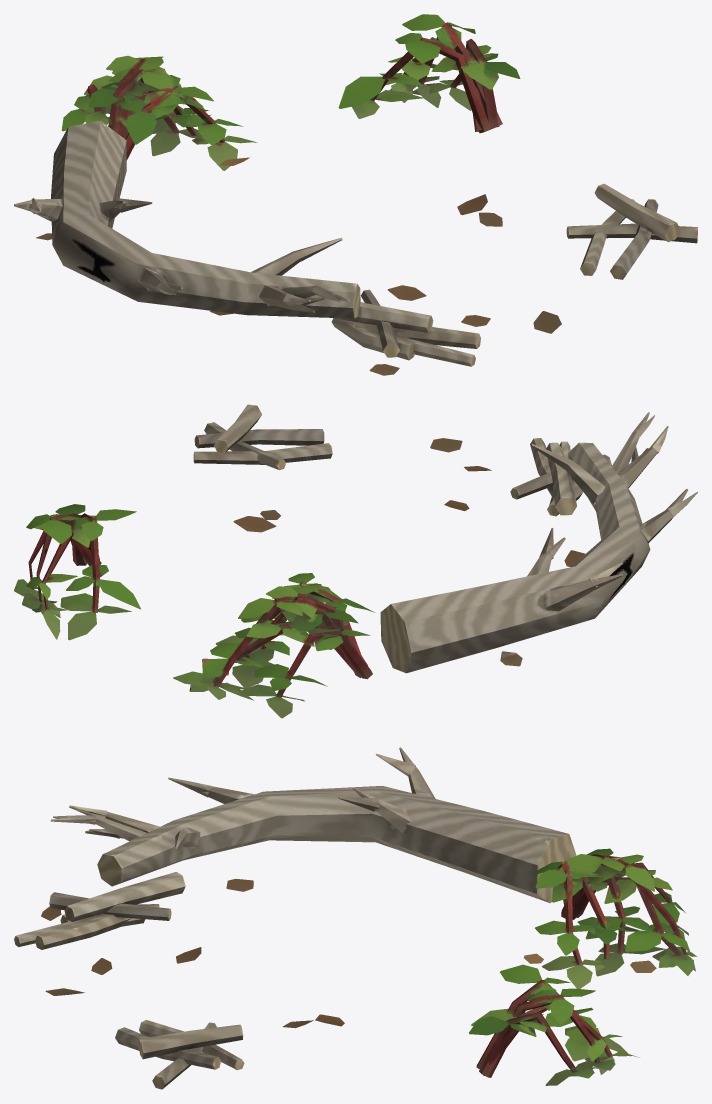
File: rough-forest-1.glb
3 views of the same model, one above another, from view 1: azimuth 30°, elevation 25°; view 2: azimuth 150°, elevation 25°; view 3: azimuth 270°, elevation 25° (orthographic). The views are drawn at different scales.
Parts seen in each view (by area): view 1: rough-forest-1; view 2: rough-forest-1; view 3: rough-forest-1.
Part boxes in pixels (x1,y1,x2,y2): rough-forest-1: (14,14,697,375); rough-forest-1: (14,404,697,718); rough-forest-1: (14,747,697,1089).
Bounding box in the file's own units: 1.44 × 0.2382 × 1.57.
Materials: 1 (1 with a texture image).
